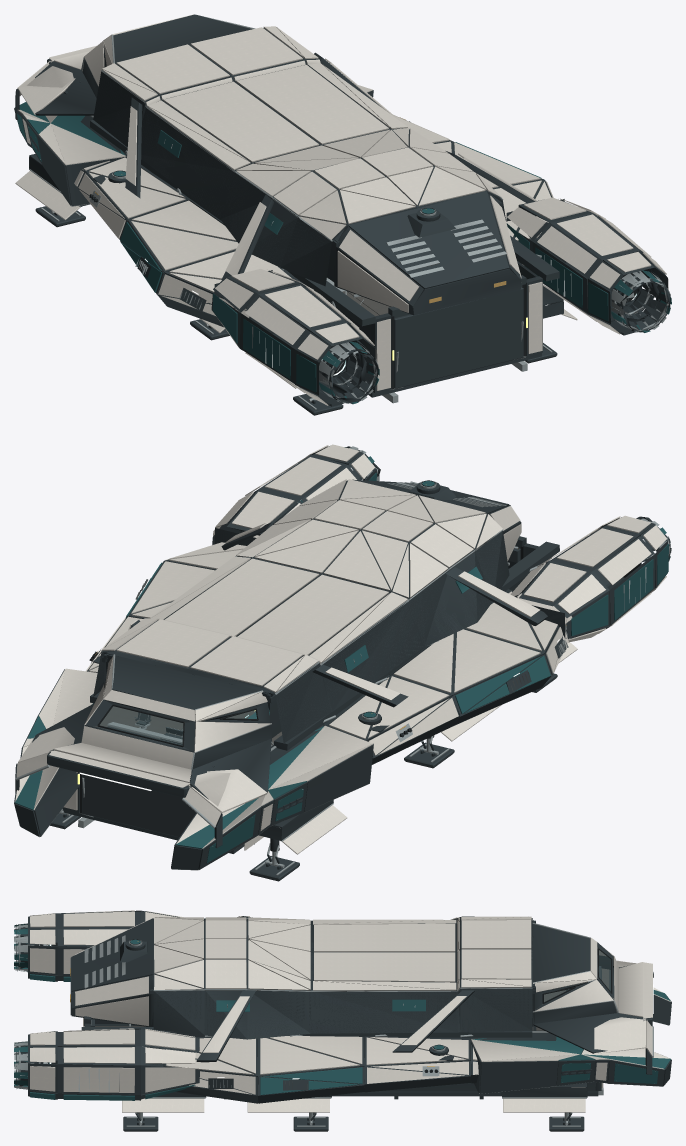
Rendered from atlas-mark-ii-lod2.glb.
3 views of the same model, one above another, from view 1: azimuth 30°, elevation 25°; view 2: azimuth 150°, elevation 25°; view 3: azimuth 270°, elevation 25° (orthographic). The views are drawn at different scales.
Parts seen in each view (by area): view 1: MeridianDorsalShell_ivory Geometry, MeridianDorsalShell_dark Geometry, AftEngineering_dark Geometry, PortLoadShoulder_ivory Geometry, RampAft_dark Geometry, PortDrive_ivory Geometry, StarboardDrive_ivory Geometry, PortDrive_dark Geometry, ExteriorStructure_dark Geometry, StarboardDrive_dark Geometry, AftEngineering_ivory Geometry, PressureBridge_dark Geometry (+18 smaller); view 2: MeridianDorsalShell_ivory Geometry, MeridianDorsalShell_dark Geometry, PortLoadShoulder_ivory Geometry, PressureBridge_dark Geometry, PortDrive_ivory Geometry, PressureBridge_ivory Geometry, LoadingBow_ivory Geometry, StarboardDrive_ivory Geometry, PortLoadShoulder_dark Geometry, PortBowCheek_dark Geometry, RampFront_dark Geometry, StarboardLoadShoulder_ivory Geometry (+21 smaller); view 3: MeridianDorsalShell_ivory Geometry, MeridianDorsalShell_dark Geometry, StarboardLoadShoulder_ivory Geometry, StarboardDrive_ivory Geometry, StarboardLoadShoulder_dark Geometry, PressureBridge_dark Geometry, AftEngineering_dark Geometry, StarboardBowCheek_dark Geometry, PortDrive_ivory Geometry, StarboardDrive_dark Geometry, ExteriorStructure_dark Geometry, AftEngineering_ivory Geometry (+25 smaller).
Part boxes in pixels (bbox=[...]): MeridianDorsalShell_ivory Geometry: bbox=[102, 26, 536, 275]; MeridianDorsalShell_dark Geometry: bbox=[93, 28, 534, 286]; AftEngineering_dark Geometry: bbox=[334, 191, 521, 315]; PortLoadShoulder_ivory Geometry: bbox=[74, 153, 291, 317]; RampAft_dark Geometry: bbox=[394, 287, 523, 388]; PortDrive_ivory Geometry: bbox=[215, 269, 376, 405]; StarboardDrive_ivory Geometry: bbox=[507, 197, 668, 334]; PortDrive_dark Geometry: bbox=[211, 270, 378, 406]; ExteriorStructure_dark Geometry: bbox=[63, 81, 559, 397]; StarboardDrive_dark Geometry: bbox=[506, 199, 670, 335]; AftEngineering_ivory Geometry: bbox=[337, 195, 521, 312]; PressureBridge_dark Geometry: bbox=[82, 14, 251, 97]; MeridianDorsalShell_ivory Geometry: bbox=[102, 479, 540, 700]; MeridianDorsalShell_dark Geometry: bbox=[93, 480, 547, 743]; PortLoadShoulder_ivory Geometry: bbox=[322, 591, 572, 755]; PressureBridge_dark Geometry: bbox=[84, 653, 272, 769]; PortDrive_ivory Geometry: bbox=[510, 515, 666, 642]; PressureBridge_ivory Geometry: bbox=[81, 655, 271, 769]; LoadingBow_ivory Geometry: bbox=[16, 727, 267, 825]; StarboardDrive_ivory Geometry: bbox=[213, 444, 374, 536]; PortLoadShoulder_dark Geometry: bbox=[270, 589, 566, 764]; PortBowCheek_dark Geometry: bbox=[171, 743, 373, 869]; RampFront_dark Geometry: bbox=[82, 774, 195, 837]; StarboardLoadShoulder_ivory Geometry: bbox=[85, 535, 258, 672]; MeridianDorsalShell_ivory Geometry: bbox=[154, 916, 531, 1052]; MeridianDorsalShell_dark Geometry: bbox=[153, 916, 532, 1062]; StarboardLoadShoulder_ivory Geometry: bbox=[166, 1036, 478, 1094]; StarboardDrive_ivory Geometry: bbox=[30, 1028, 195, 1092]; StarboardLoadShoulder_dark Geometry: bbox=[163, 1033, 556, 1103]; PressureBridge_dark Geometry: bbox=[532, 920, 616, 1026]; AftEngineering_dark Geometry: bbox=[70, 918, 153, 1026]; StarboardBowCheek_dark Geometry: bbox=[470, 1040, 671, 1093]; PortDrive_ivory Geometry: bbox=[30, 910, 183, 973]; StarboardDrive_dark Geometry: bbox=[16, 1028, 199, 1100]; ExteriorStructure_dark Geometry: bbox=[81, 994, 601, 1099]; AftEngineering_ivory Geometry: bbox=[75, 920, 148, 1025].
Bounding box in the file's own units: 35.54 × 14.93 × 61.8.
Materials: 13 (2 with a texture image).
